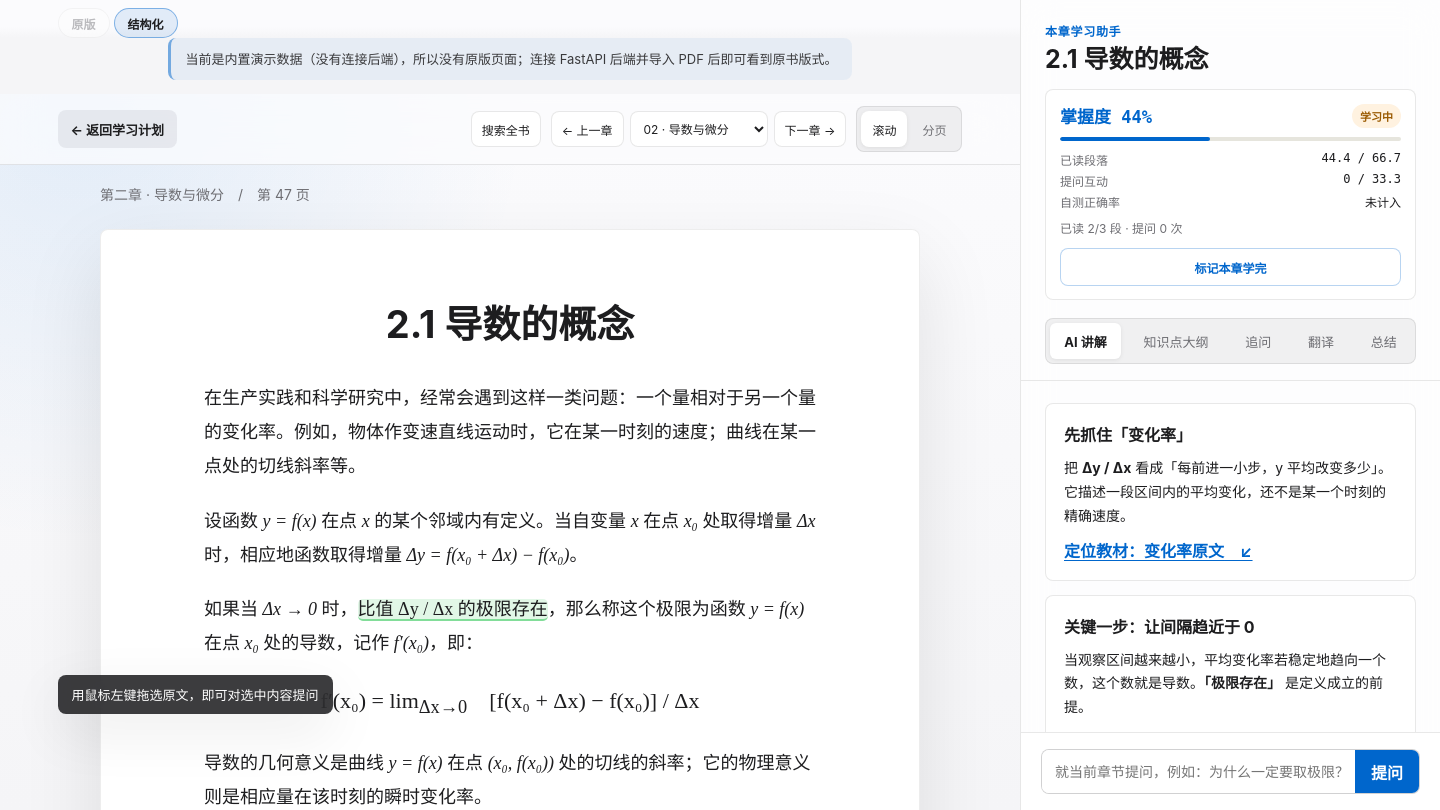
Test: 侧栏工具：入口与结构 › 提问会自动切到「追问」页——回答落在那一页，不切过去就像没反应
Check: the element with test id "paper" is shown, box [100,229,920,809]
Click the tab "翻译". click: (1321, 341)
box: [1294,323,1348,359]
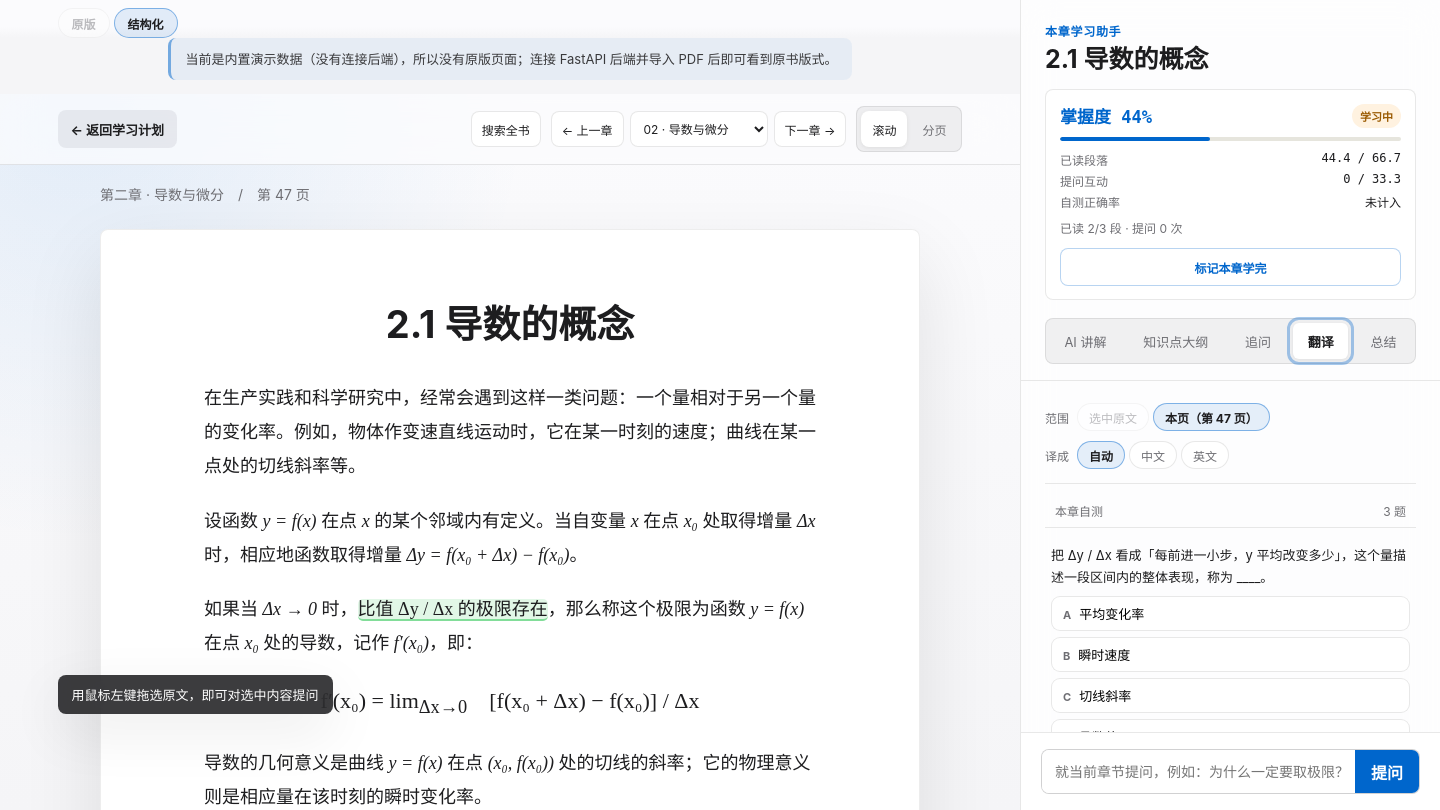
Type "这段想表达什么？" into the field named "提问输入框". click: (1198, 772)
box: [1042,750,1355,793]
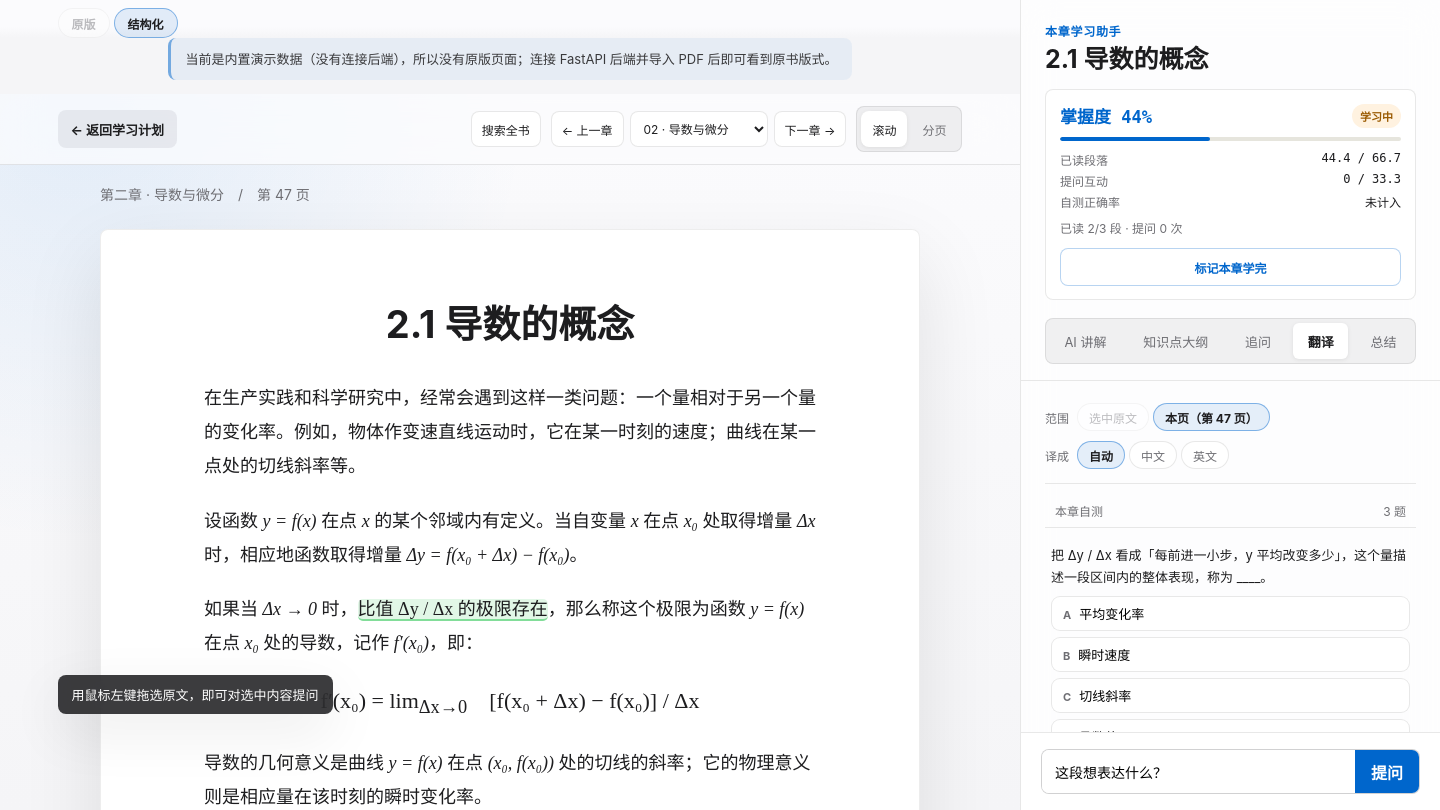
Click the button "提问". click: (1387, 772)
box: [1355,750,1419,793]
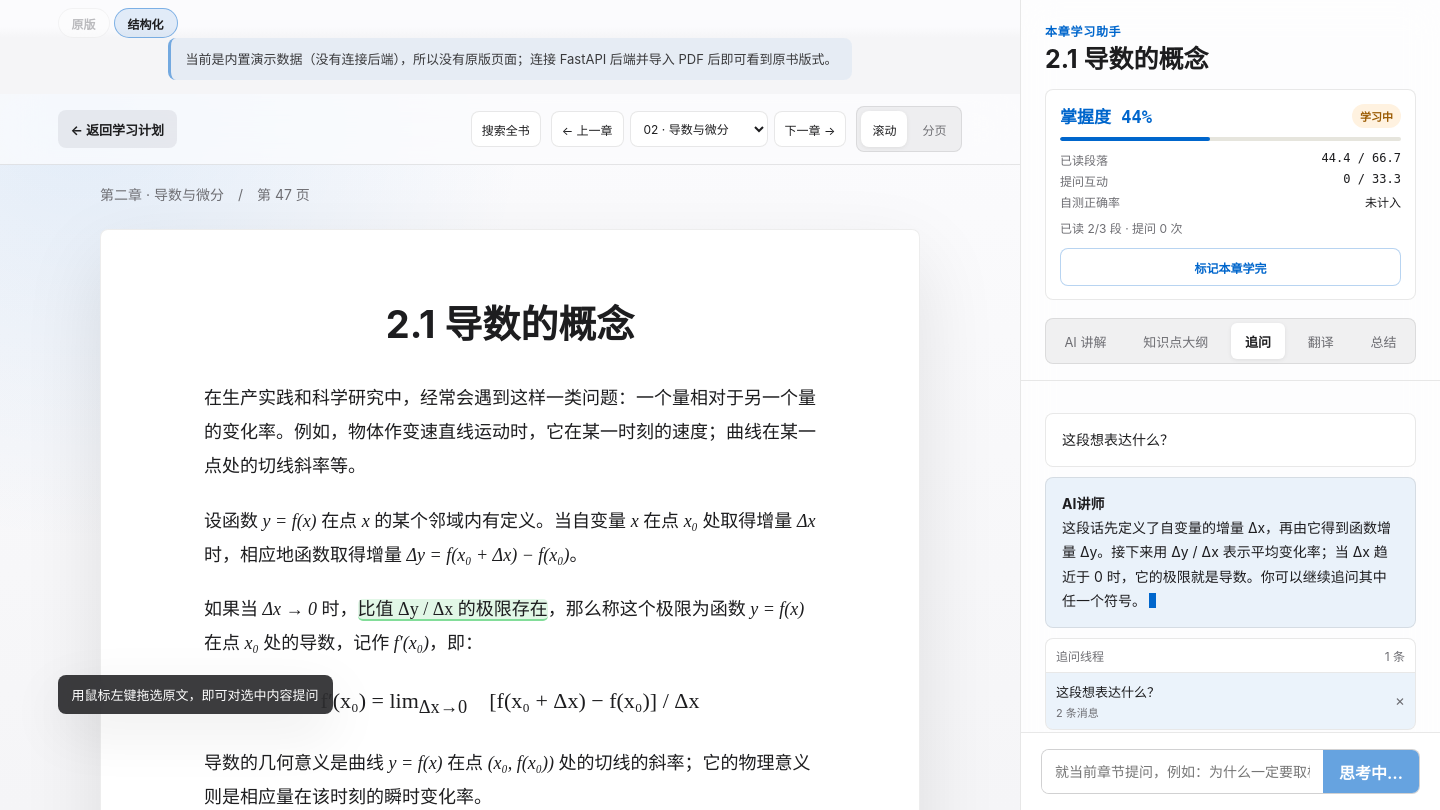
Check: the element with test id "answer" is shown, box [1045,477,1416,628]
